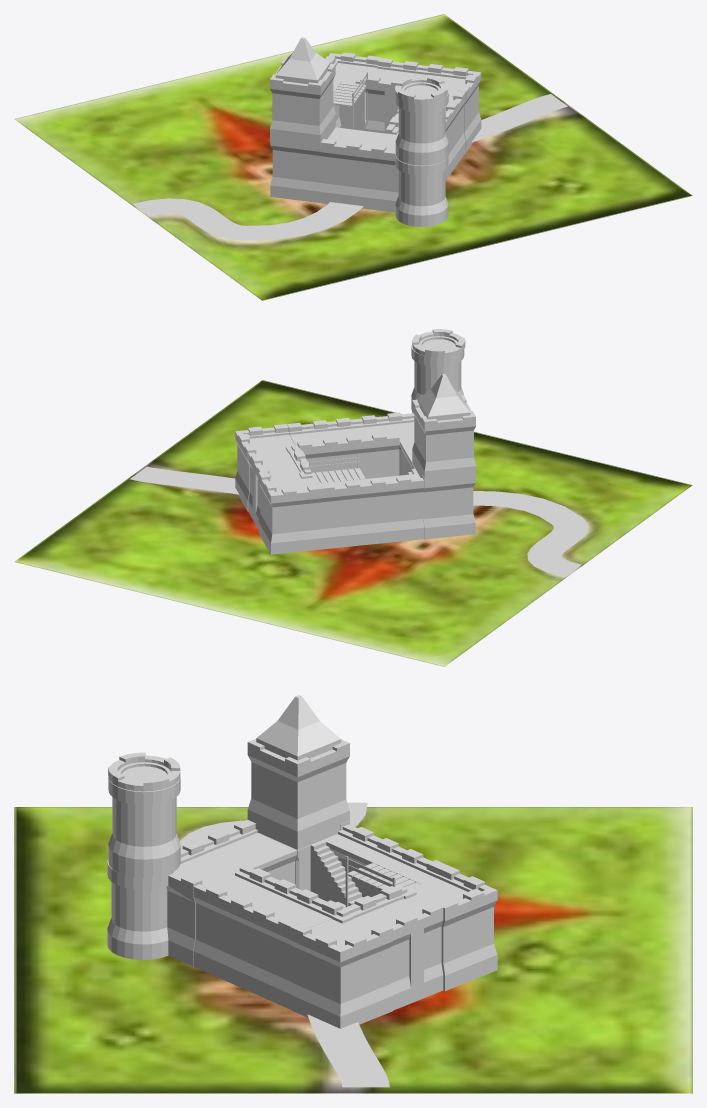
Rendered from tile3.fbx.
The picture shows the model from 3 angles, top to bottom: view 1: azimuth 30°, elevation 25°; view 2: azimuth 150°, elevation 25°; view 3: azimuth 270°, elevation 25°; orthographic projection. The views are drawn at different scales.
Visible parts, largest first — view 1: Plane.018, wall.006, BezierCurve.016; view 2: Plane.018, wall.006, BezierCurve.016; view 3: Plane.018, wall.006, BezierCurve.016.
Boxes of the visible parts, x1,y1,x2,y2 form: Plane.018: (14,14,692,300); wall.006: (270,37,481,226); BezierCurve.016: (132,94,567,240); Plane.018: (14,380,692,666); wall.006: (235,329,475,554); BezierCurve.016: (130,466,588,577); Plane.018: (14,807,692,1093); wall.006: (107,695,497,1028); BezierCurve.016: (180,802,389,1087).
Size of the model in its own units: 200 by 68.05 by 200.
